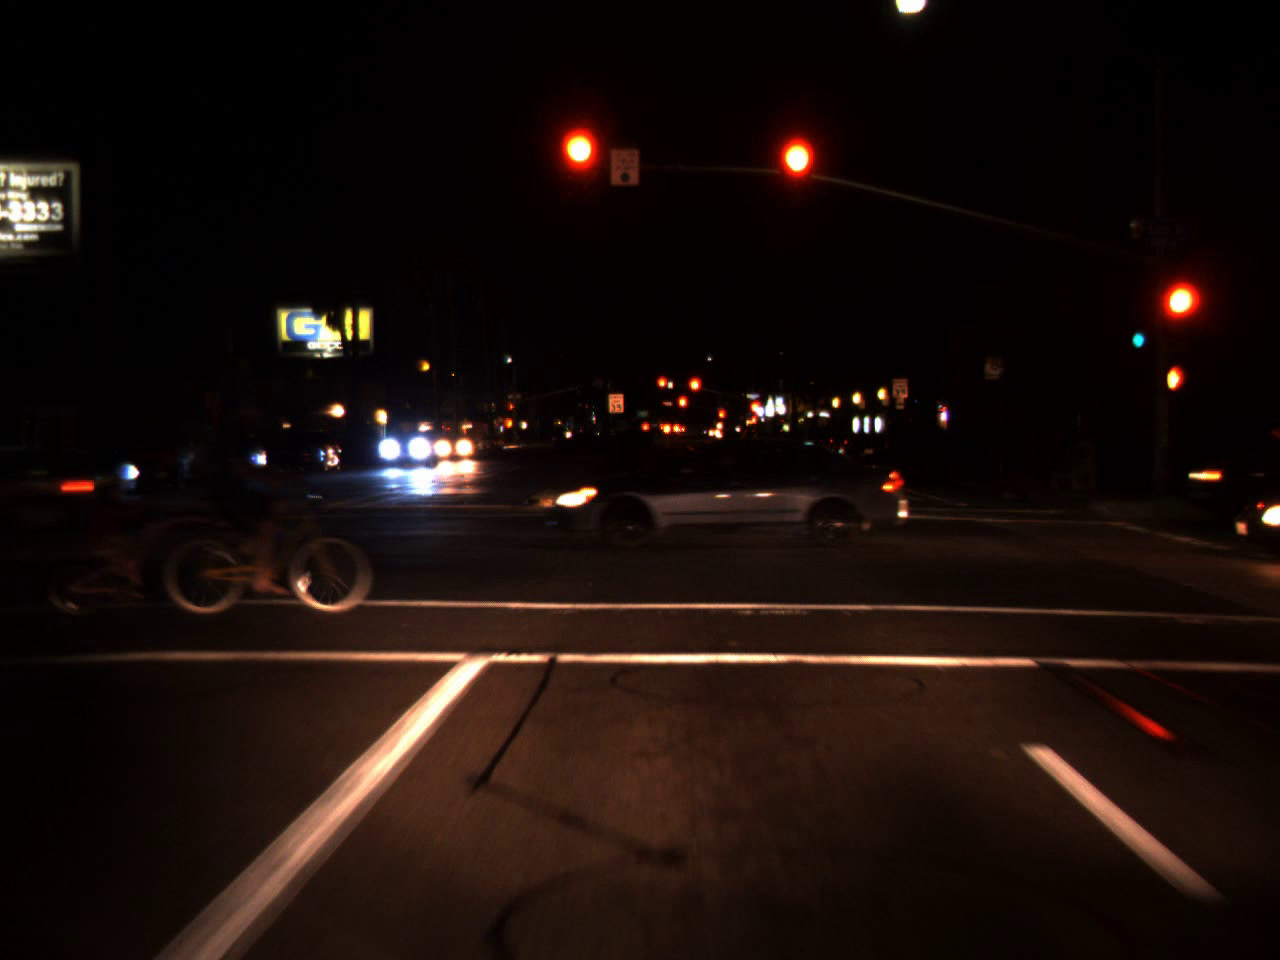stop: (1158, 280, 1201, 350), (562, 129, 598, 204), (778, 140, 814, 210), (687, 376, 702, 405), (656, 376, 668, 400), (677, 394, 687, 418), (748, 400, 761, 418), (717, 408, 726, 429), (509, 402, 515, 418)
